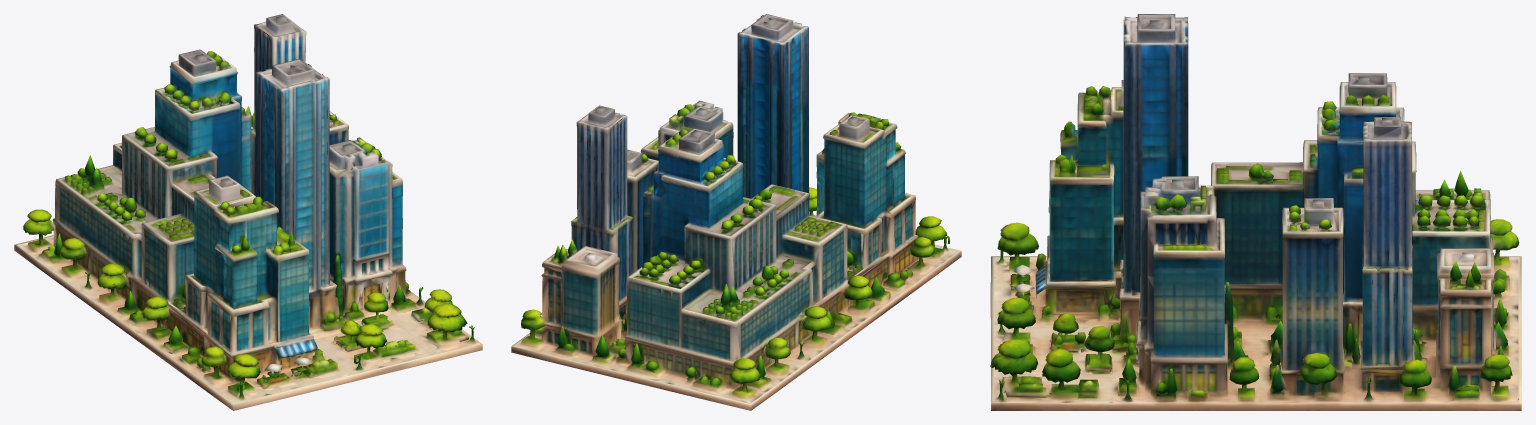
Rendered from block-midtown-a.glb.
3 views of the same model, side by side, from view 1: azimuth 30°, elevation 25°; view 2: azimuth 150°, elevation 25°; view 3: azimuth 270°, elevation 25° (orthographic). The views are drawn at different scales.
Visible parts, largest first — view 1: low; view 2: low; view 3: low.
Boxes of the visible parts, left/top/right/bottom form: low: left=14, top=14, right=482, bottom=410; low: left=511, top=14, right=961, bottom=410; low: left=990, top=14, right=1521, bottom=410.
Bounding box in the file's own units: 0.6526 × 0.6493 × 0.9815.
Materials: 1 (1 with a texture image).
